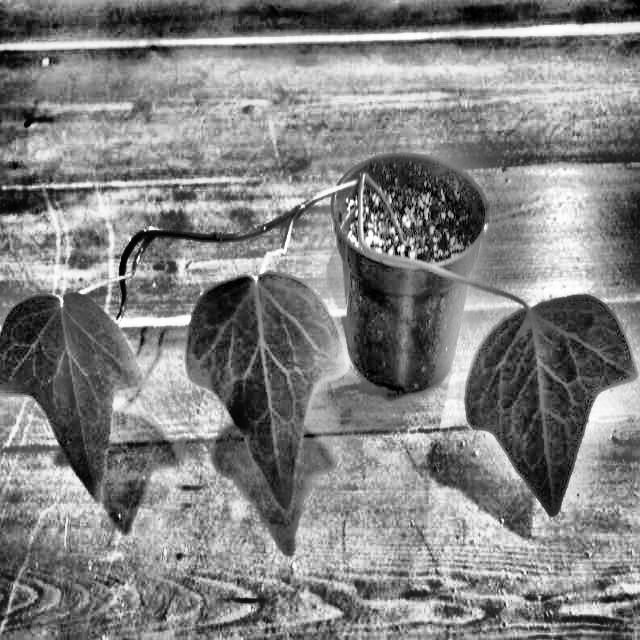plants: (3, 177, 639, 519)
